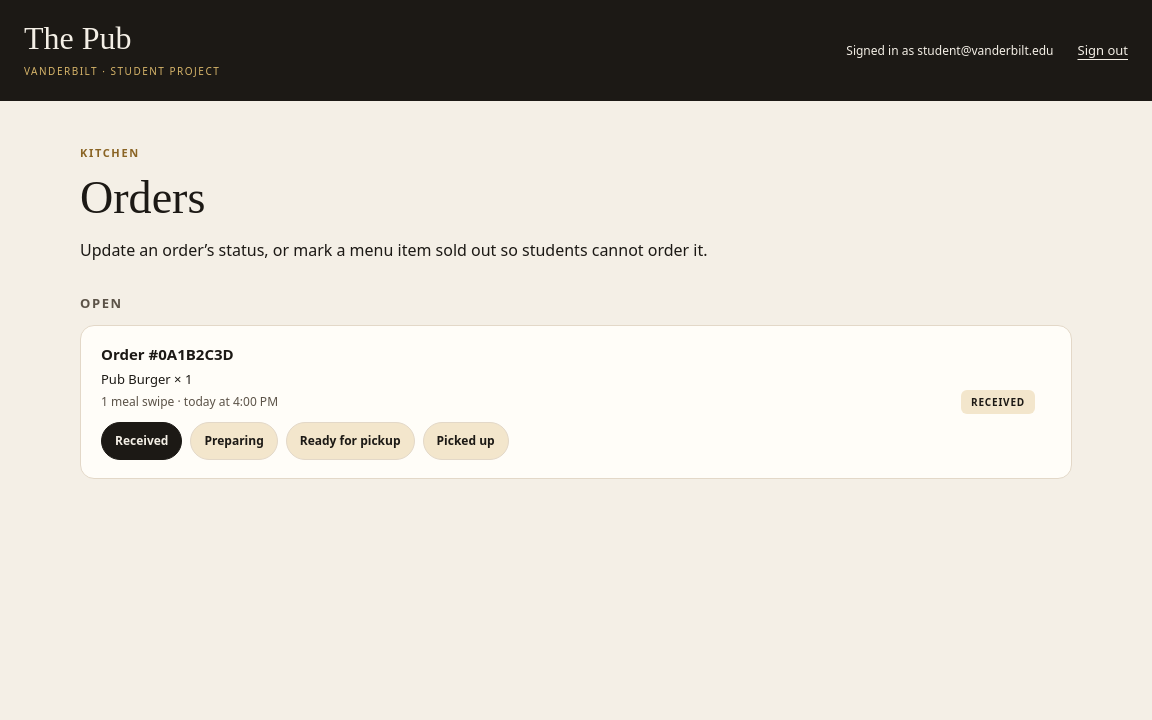
Test: Kitchen orders › tells a student account it cannot change status
Expected: the text "Pub Burger × 1" is shown, [101,370,192,388]
Click the button "Ready for pickup" at x=350, y=441, box [286,422,414,460]
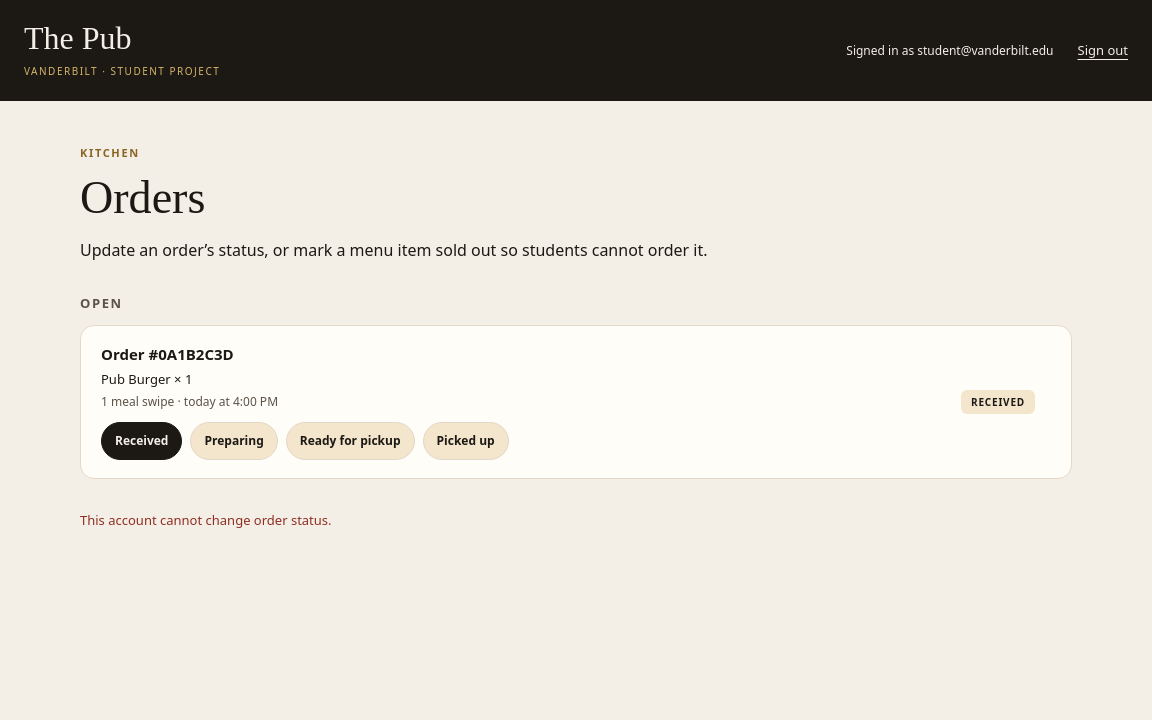
Now the message reads "This account cannot change order status.", box [80,511,332,529]
